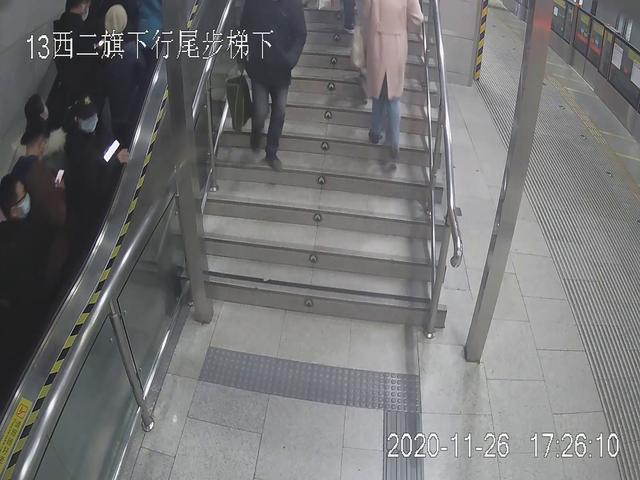person: (335, 1, 424, 154), (236, 1, 307, 170)
